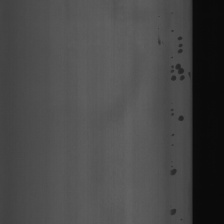oil_spot: (169, 58, 189, 85), (169, 105, 177, 149), (172, 29, 183, 55), (169, 159, 178, 177), (169, 205, 178, 223), (156, 31, 166, 47), (176, 113, 185, 126)
